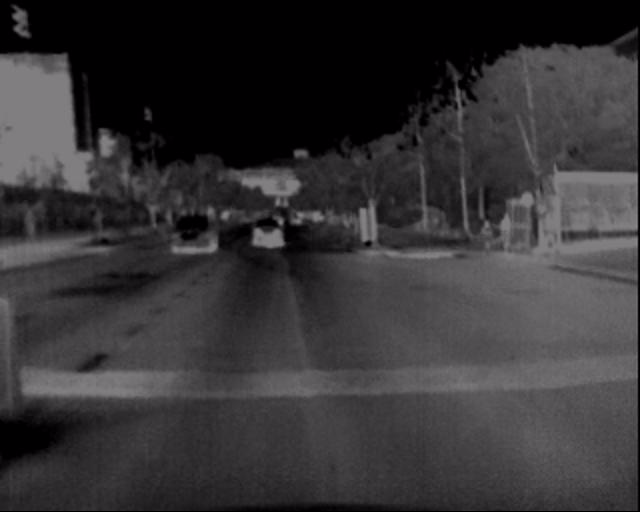person: (495, 205, 522, 262), (538, 205, 560, 260), (478, 210, 500, 260), (6, 208, 26, 249)
